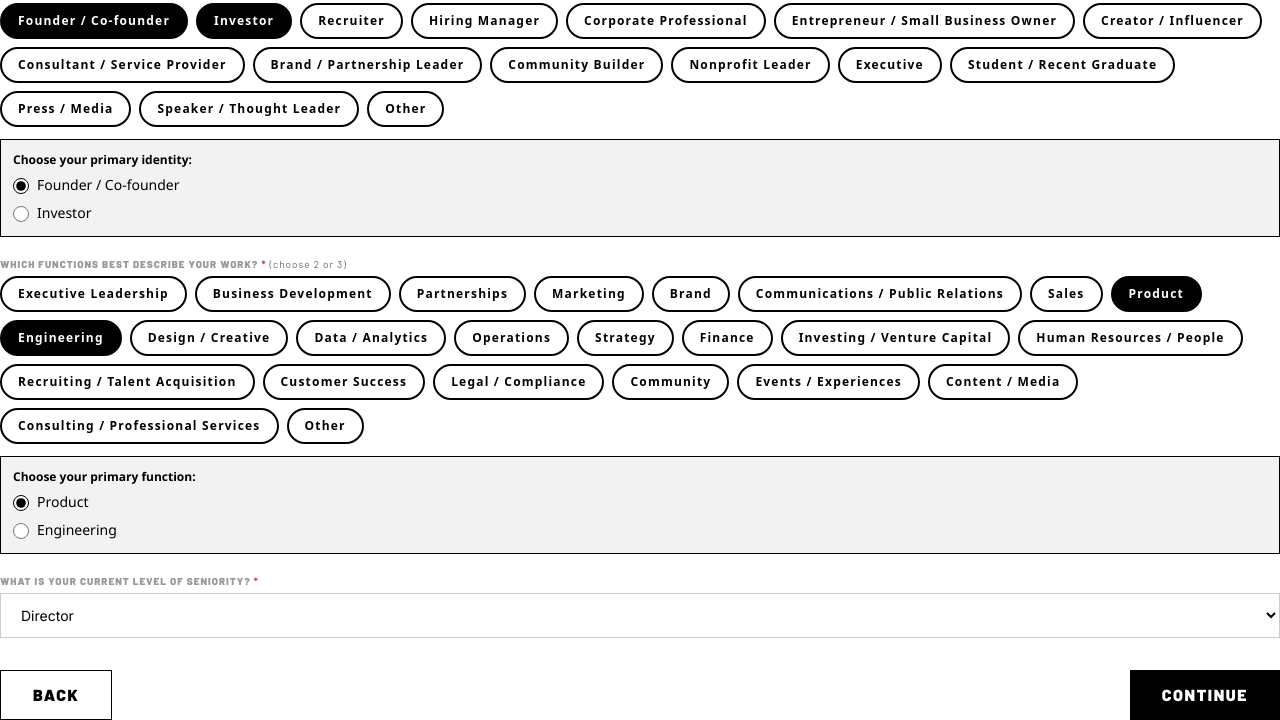
Test: does not confirm typed text when Page 1 remounts
(page scrolled)
Click the button "Continue". click: (1205, 695)
box: [1130, 670, 1279, 719]
(page scrolled)
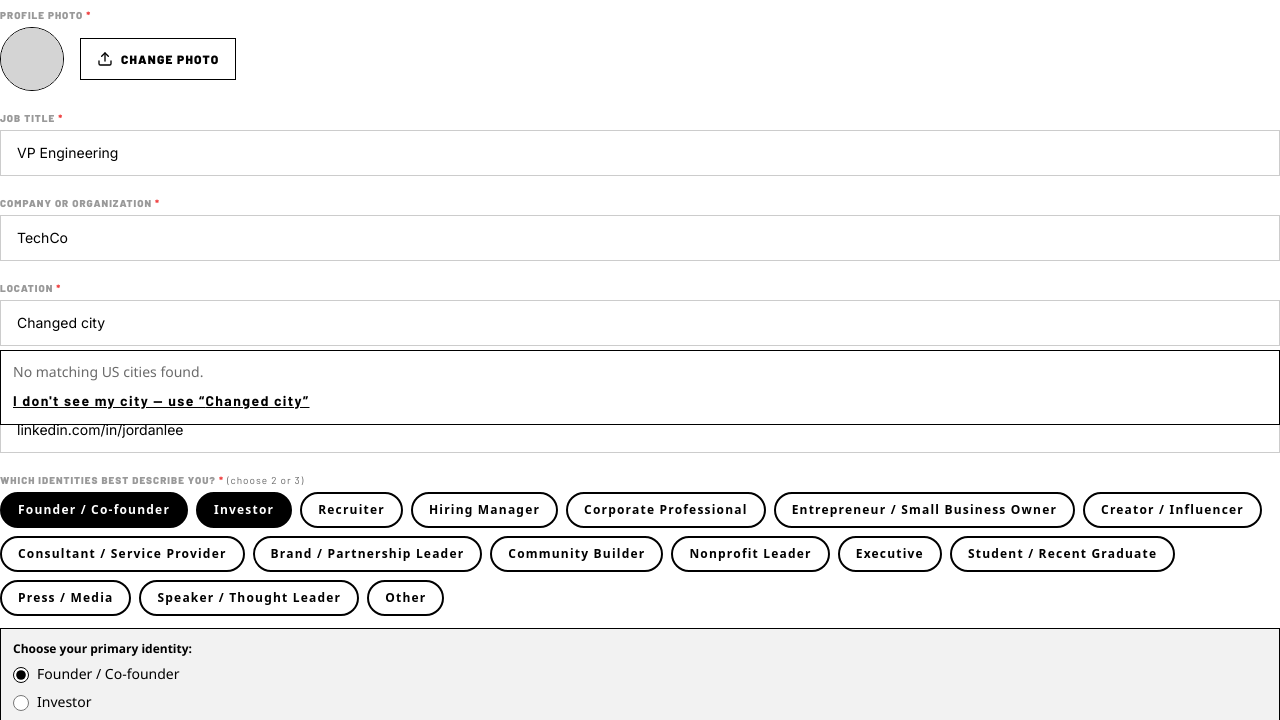
Expected: the text "Select a city from the results or use the custom location option" is shown, [0, 351, 351, 368]
